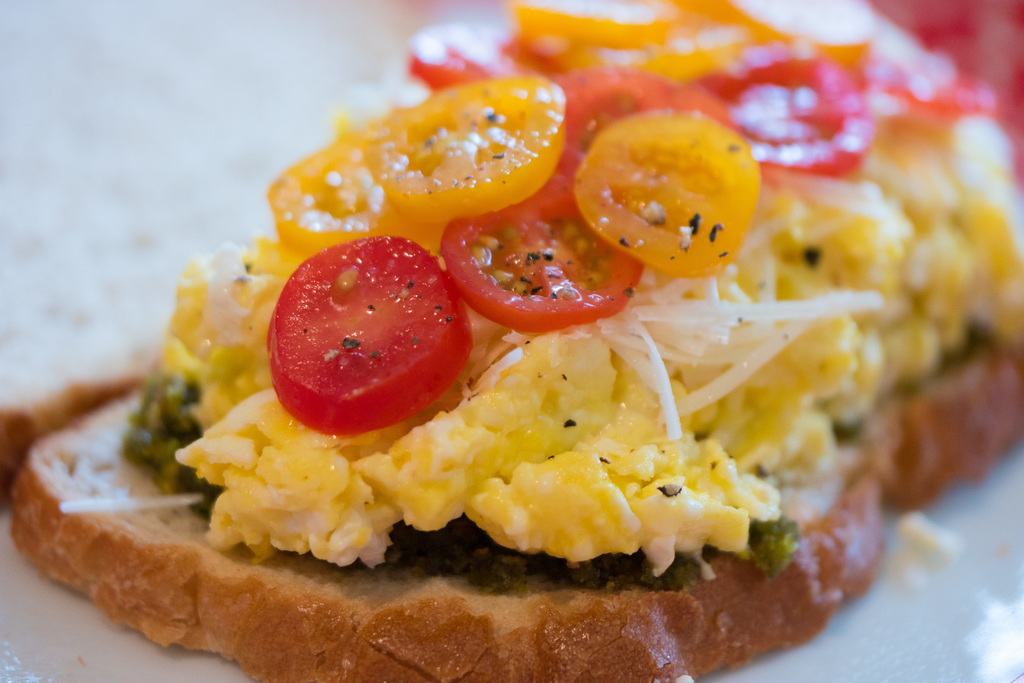Tomato: (266, 0, 998, 436)
